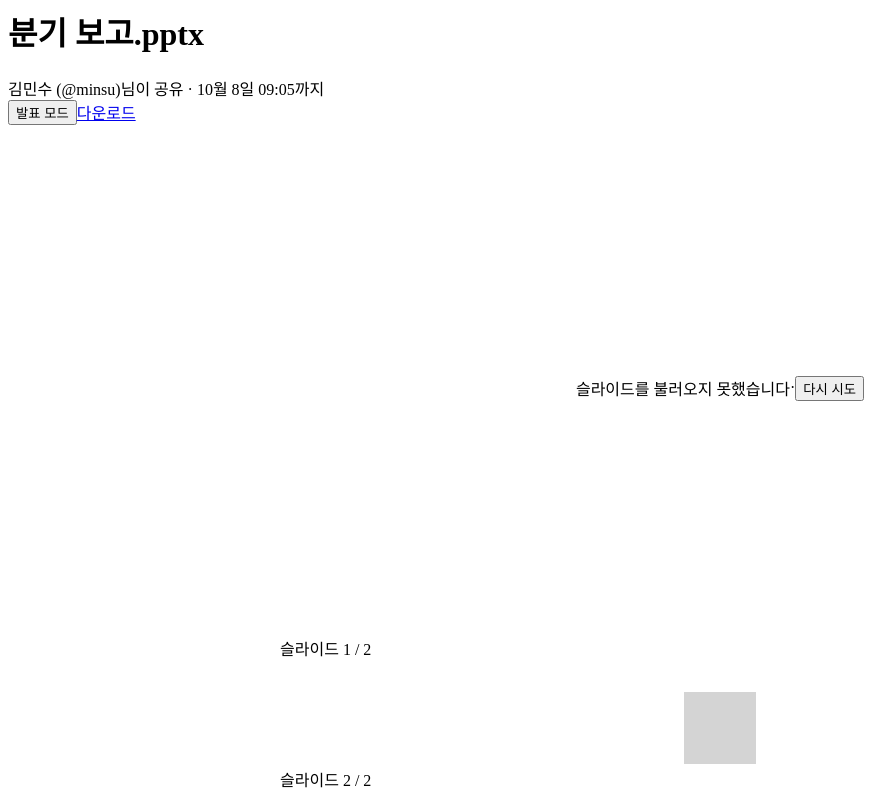
it: ShareView › marks a render that failed to load and refreshes the viewer tickets on retry
Expected: the heading "분기 보고.pptx" is shown, x1=8 y1=16 x2=204 y2=52
Expected: the text "슬라이드를 불러오지 못했습니다" is shown, x1=576 y1=376 x2=790 y2=400
Step 1. Click the button "다시 시도" → (830, 388), box x1=795 y1=376 x2=864 y2=401
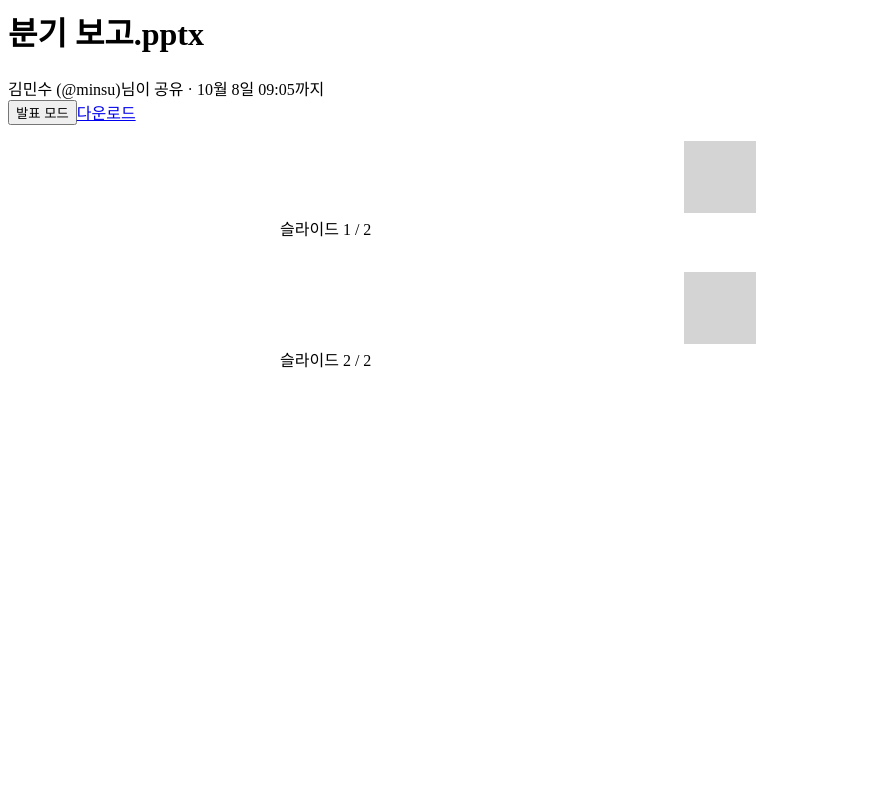
Expected: the text "슬라이드를 불러오지 못했습니다" is gone
